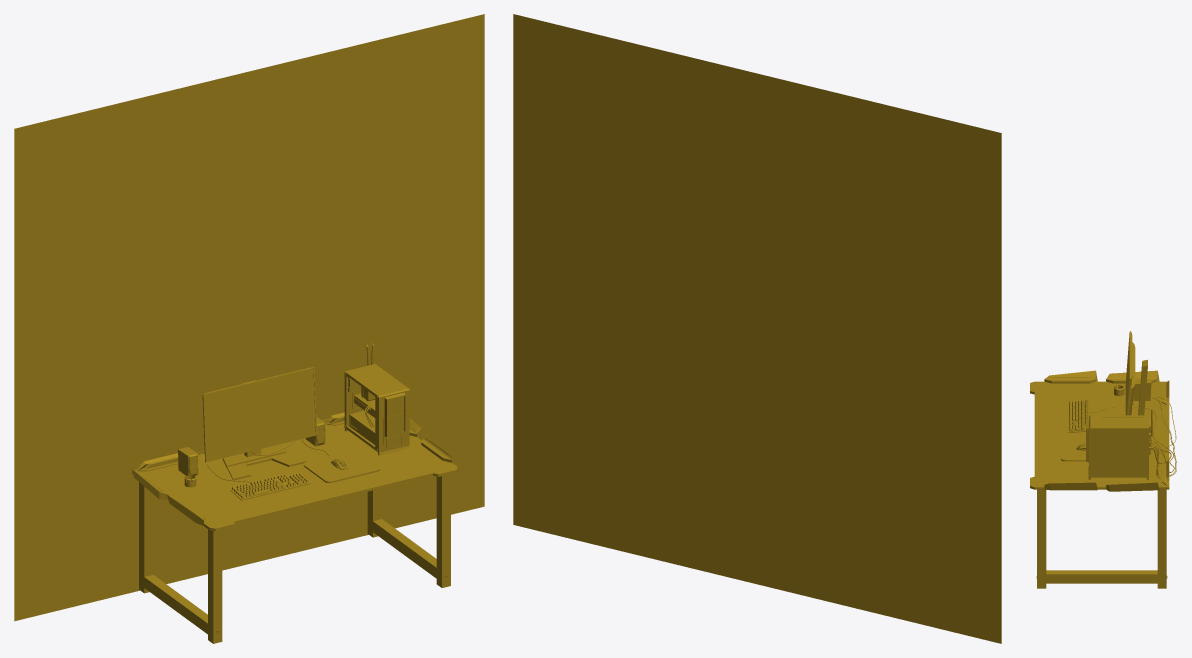
3 renders of one model, left to right at view 1: azimuth 30°, elevation 25°; view 2: azimuth 150°, elevation 25°; view 3: azimuth 270°, elevation 25°, orthographic. The views are drawn at different scales.
Visible parts, largest first — view 1: wall, table, screen, pc, MOUSE AND MP, KEYBOARD, SPAEKERS; view 2: wall; view 3: table, pc, screen, CABLES, KEYBOARD, MOUSE AND MP, SPAEKERS.
Boxes of the visible parts, left/top/right/bottom form: wall: left=14, top=14, right=484, bottom=621; table: left=131, top=412, right=457, bottom=643; screen: left=202, top=367, right=317, bottom=480; pc: left=344, top=343, right=409, bottom=455; MOUSE AND MP: left=303, top=451, right=379, bottom=483; KEYBOARD: left=230, top=472, right=310, bottom=500; SPAEKERS: left=178, top=417, right=325, bottom=475; wall: left=513, top=14, right=1001, bottom=643; table: left=1030, top=370, right=1169, bottom=588; pc: left=1086, top=409, right=1153, bottom=479; screen: left=1108, top=331, right=1150, bottom=418; CABLES: left=1089, top=397, right=1176, bottom=478; KEYBOARD: left=1068, top=399, right=1088, bottom=432; MOUSE AND MP: left=1061, top=437, right=1085, bottom=461; SPAEKERS: left=1133, top=378, right=1151, bottom=454.
Size of the model in its own units: 6.42 by 6.42 by 2.
